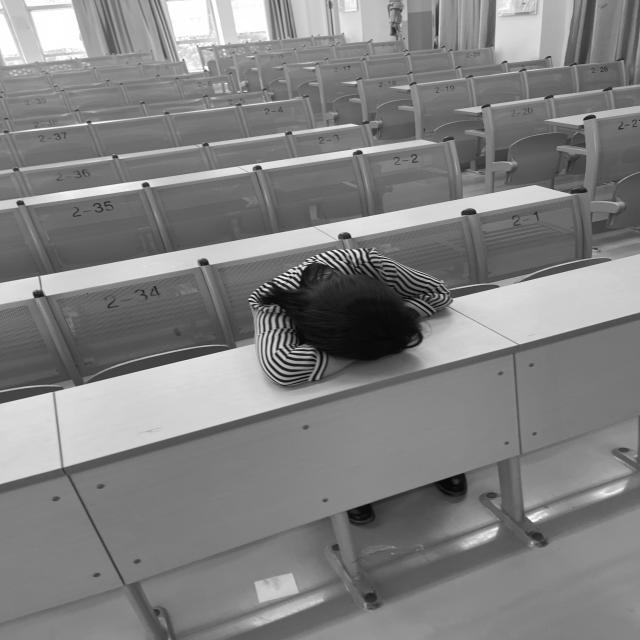sleep: (247, 249, 462, 384)
